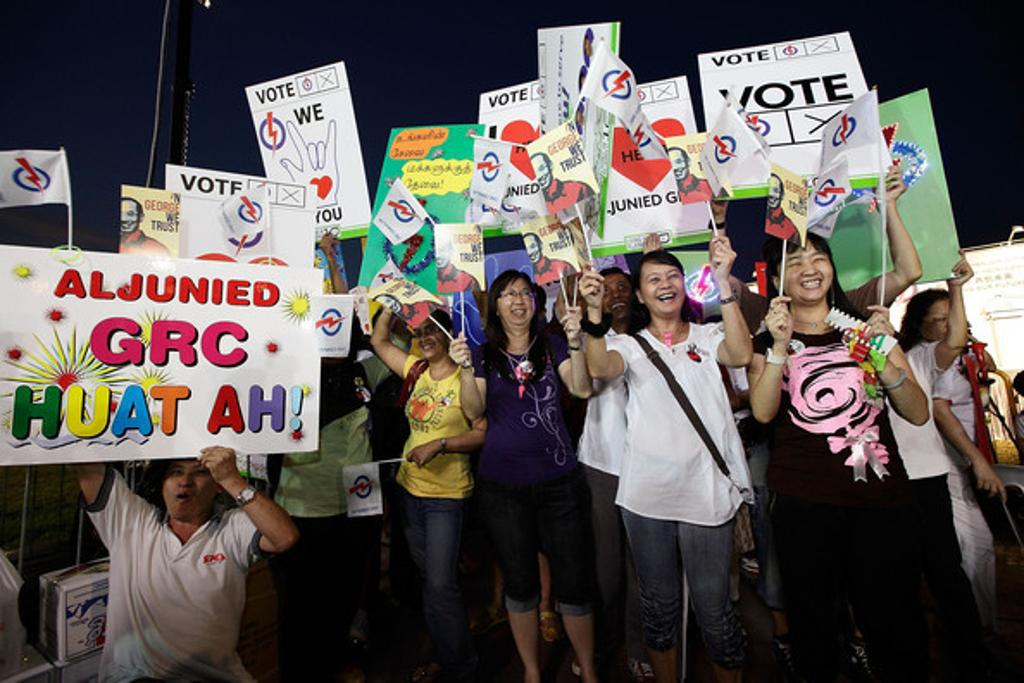face: (161, 457, 215, 521), (777, 247, 833, 303), (640, 265, 688, 317), (495, 280, 536, 328), (927, 304, 965, 347), (600, 275, 631, 320), (414, 322, 443, 361), (115, 206, 140, 234), (530, 160, 551, 190), (430, 240, 449, 269), (666, 156, 687, 180), (521, 238, 541, 263), (375, 298, 401, 315), (764, 183, 779, 210)
